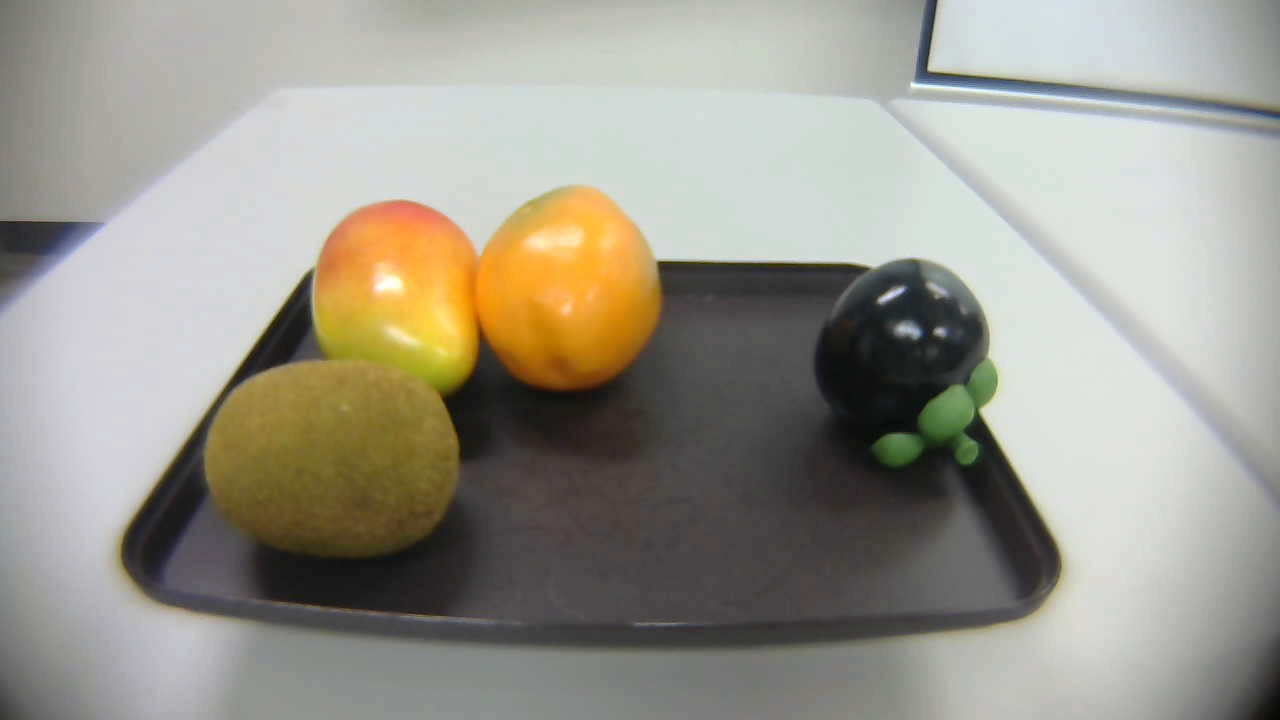kiwi fruit: (197, 356, 467, 573)
mangosteen: (812, 255, 1007, 484)
papya: (467, 181, 682, 409)
red mango: (298, 191, 485, 413)
